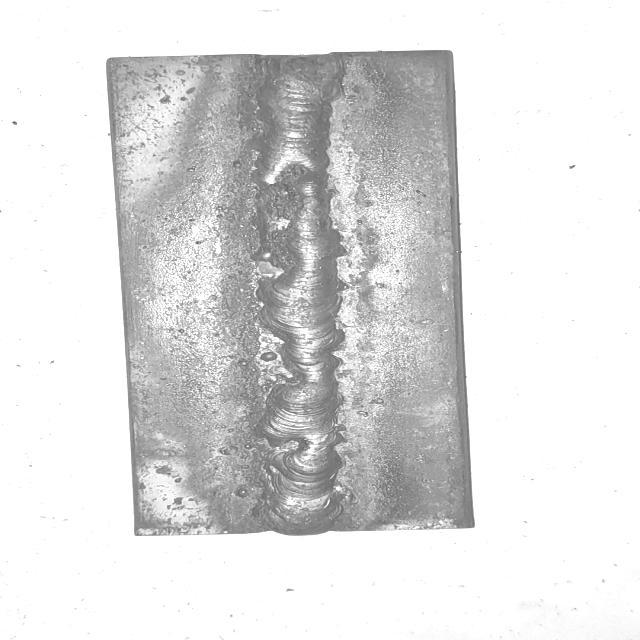Defect: (237, 160, 313, 294), (240, 319, 316, 419), (234, 430, 310, 485)
Welding Line: (258, 58, 341, 530)
Workpiece: (100, 46, 488, 538)
